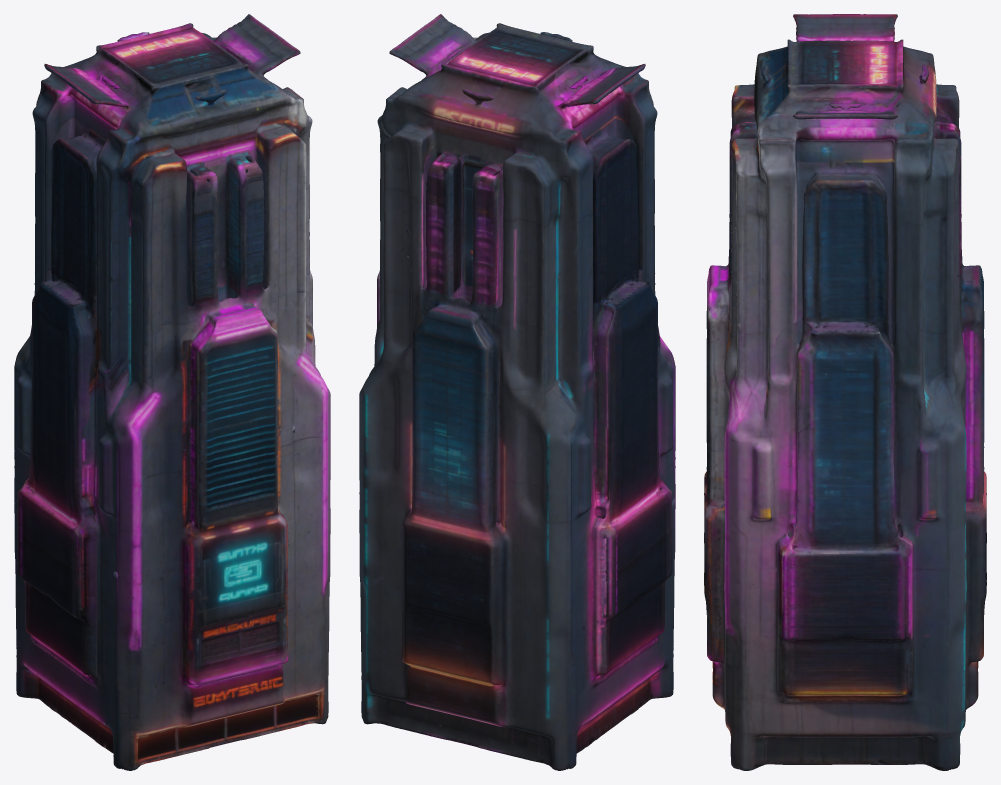
Rendered from skyscraper_designed__0213120718_texture.fbx.
3 renders of one model, left to right at view 1: azimuth 30°, elevation 25°; view 2: azimuth 150°, elevation 25°; view 3: azimuth 270°, elevation 25°, orthographic.
Visible parts, largest first — view 1: Mesh1_Mesh1.030; view 2: Mesh1_Mesh1.030; view 3: Mesh1_Mesh1.030.
Boxes of the visible parts, bbox=[...] form: Mesh1_Mesh1.030: bbox=[14, 14, 330, 770]; Mesh1_Mesh1.030: bbox=[359, 14, 675, 770]; Mesh1_Mesh1.030: bbox=[704, 14, 986, 770].
Size of the model in its own units: 68.6 by 170 by 66.17.
1 material, 1 textured.
